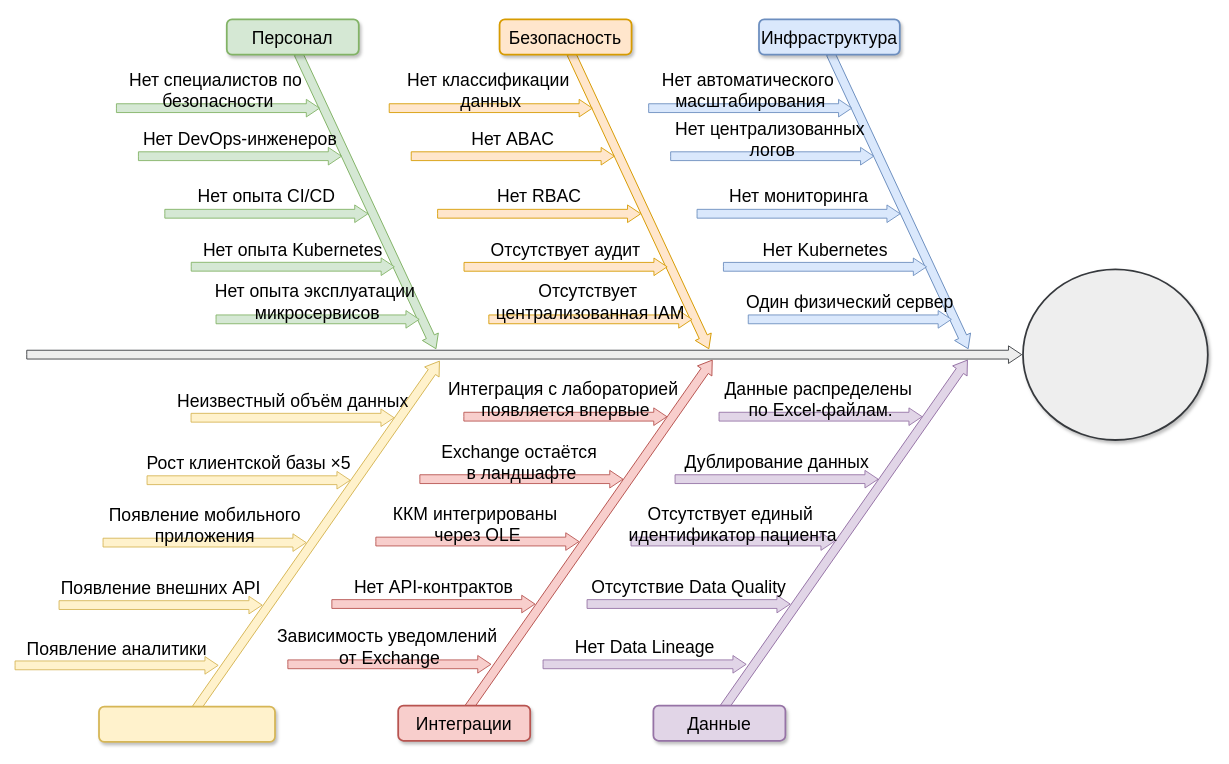
Image size: 1229x764. Some labels were removed from this diagram. Each missing label, with the centre of its shape:
Производительность: the point at 187,725
Снижение производительности и риски отказов при миграции на новую архитектуру: the point at 1116,355
